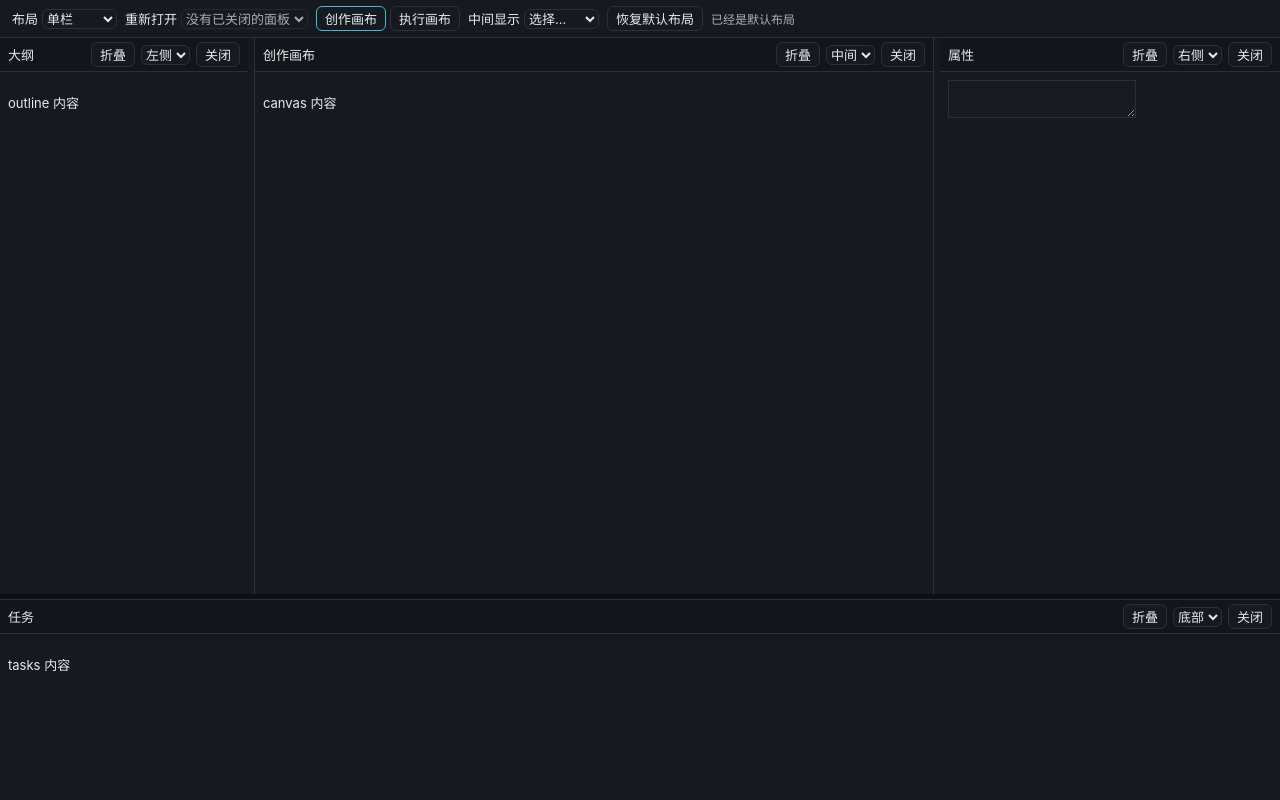
Test: DockLayout interactions › M1-10 persist failure: session keeps working and status says so
Select "右侧" in the dropdown named "「任务」停靠位置" at (1198, 616), box [1173, 606, 1222, 626]
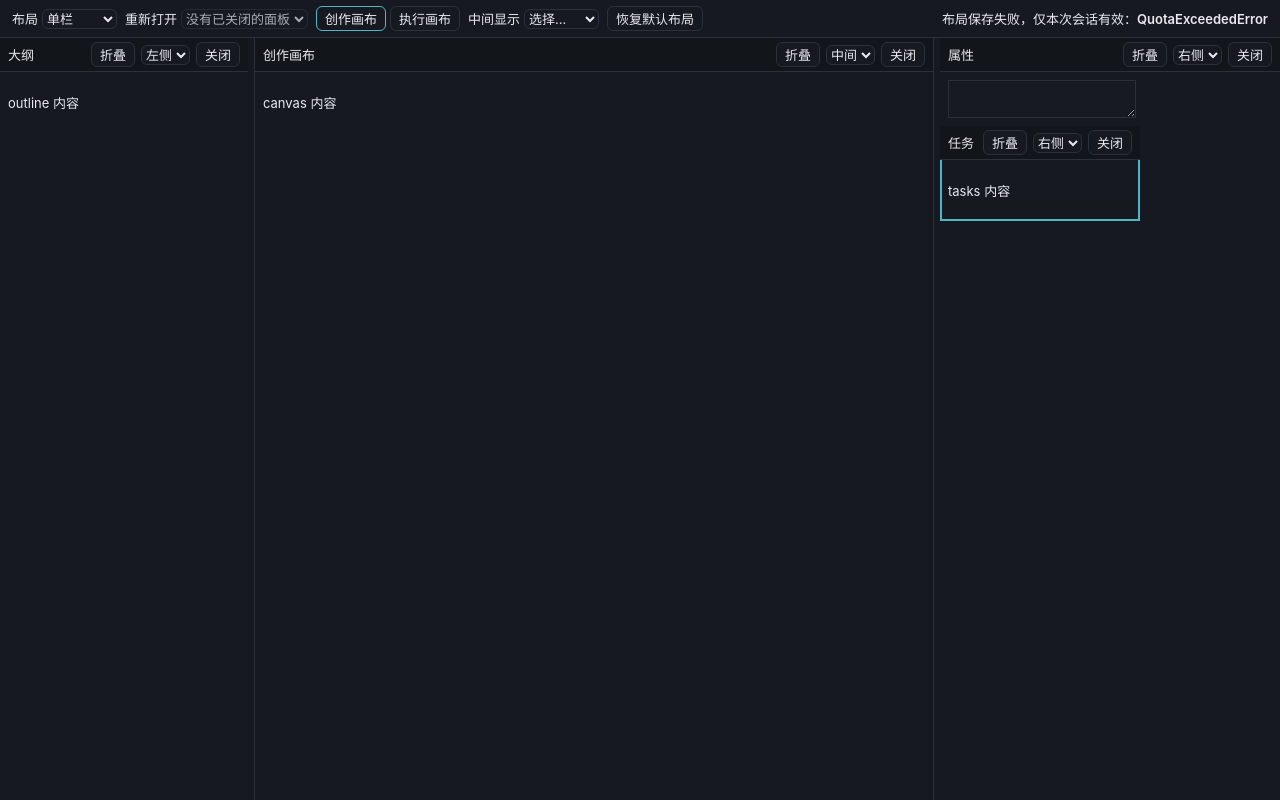
expect the message shows "布局保存失败，仅本次会话有效": met, box [942, 11, 1268, 27]
